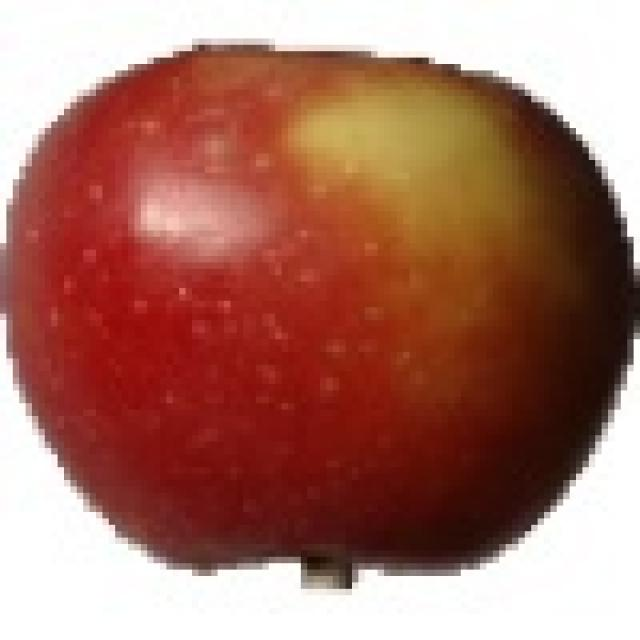apple: (1, 46, 637, 584)
